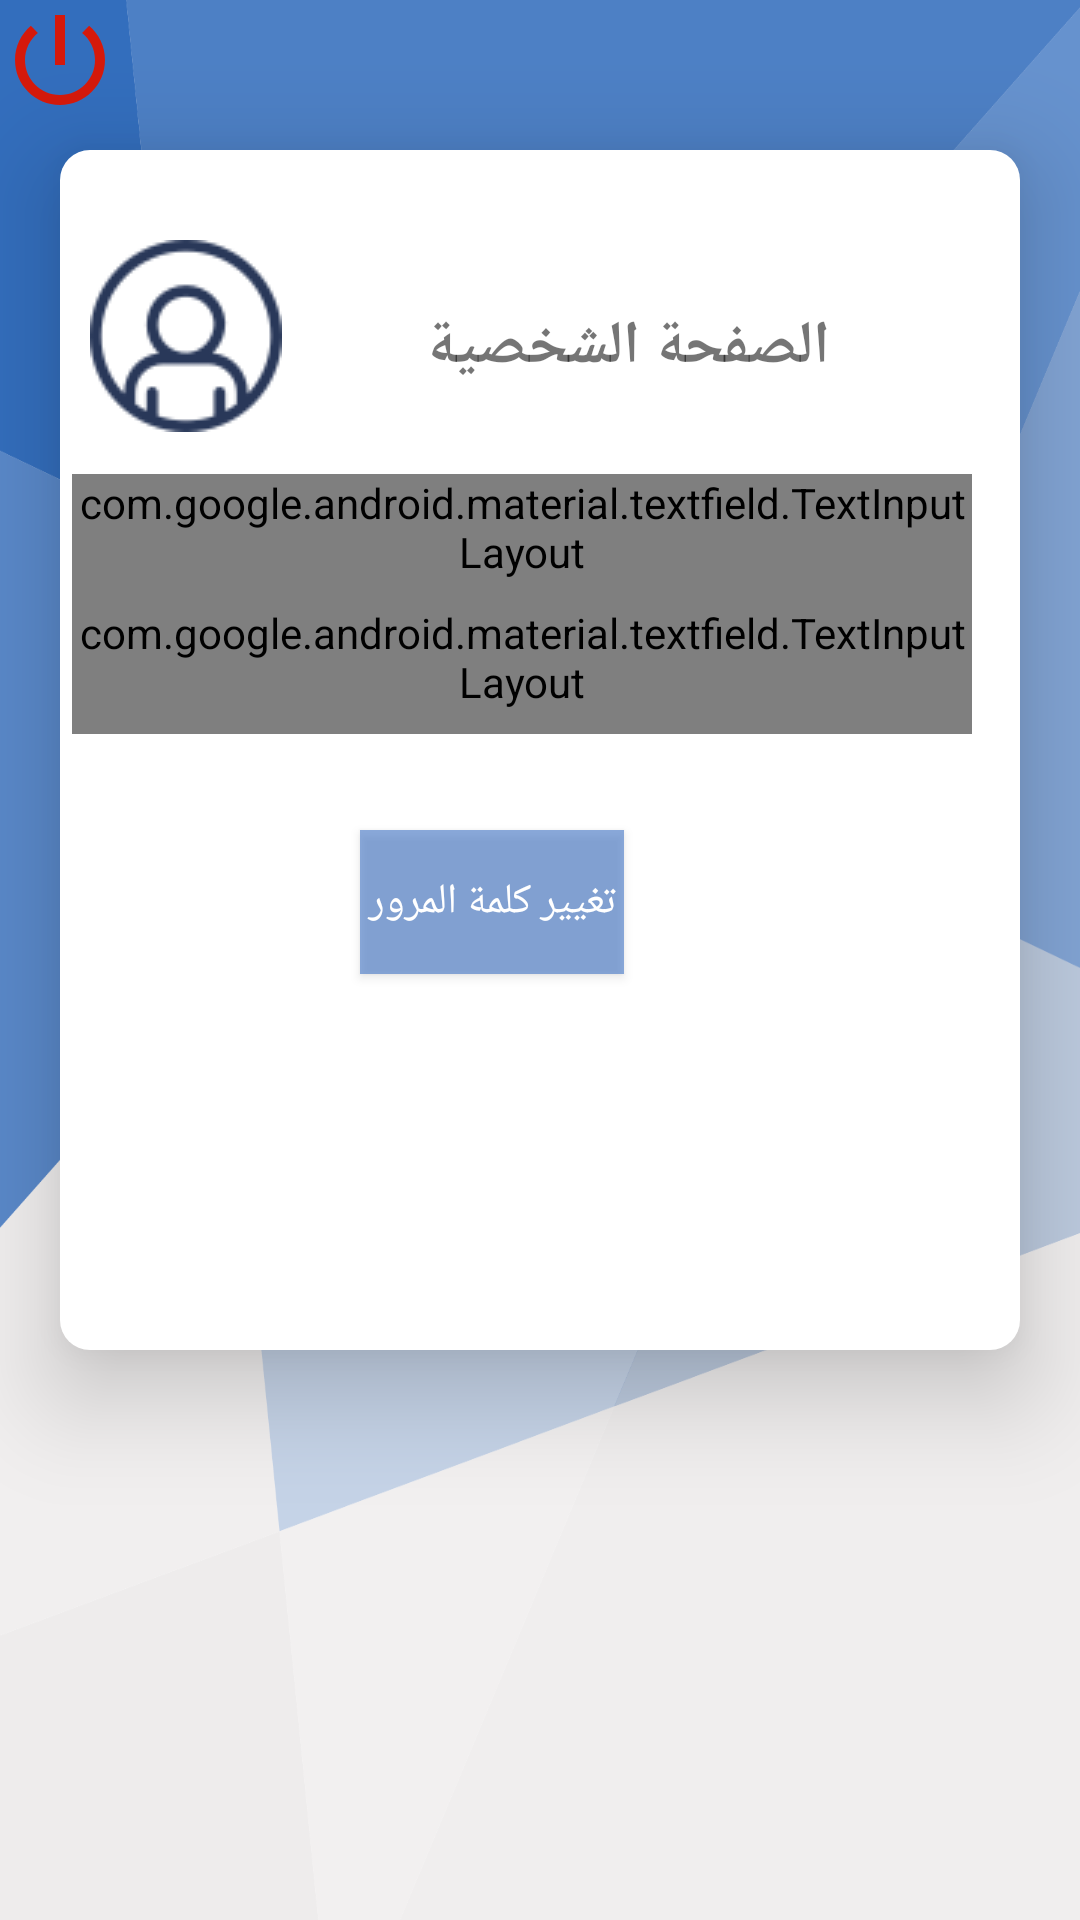

Screen size 1080*1920. Icon name, then its box in pixels as box(x1, y1, x2, y2):
power: box(15, 15, 105, 105)
user: box(90, 240, 282, 432)
